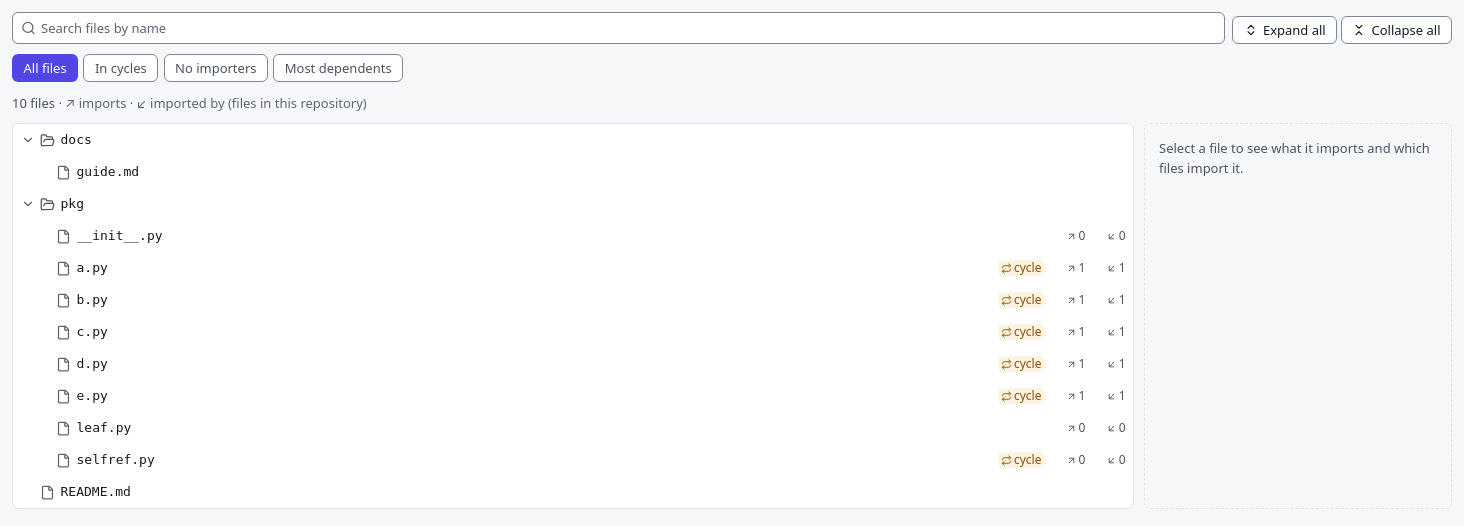
Test: filters and actions (X2) › says so when nothing matches, with a way back
Type "zzz" into the search field labelled "Search files by name" at (619,28), box [12,12,1225,44]
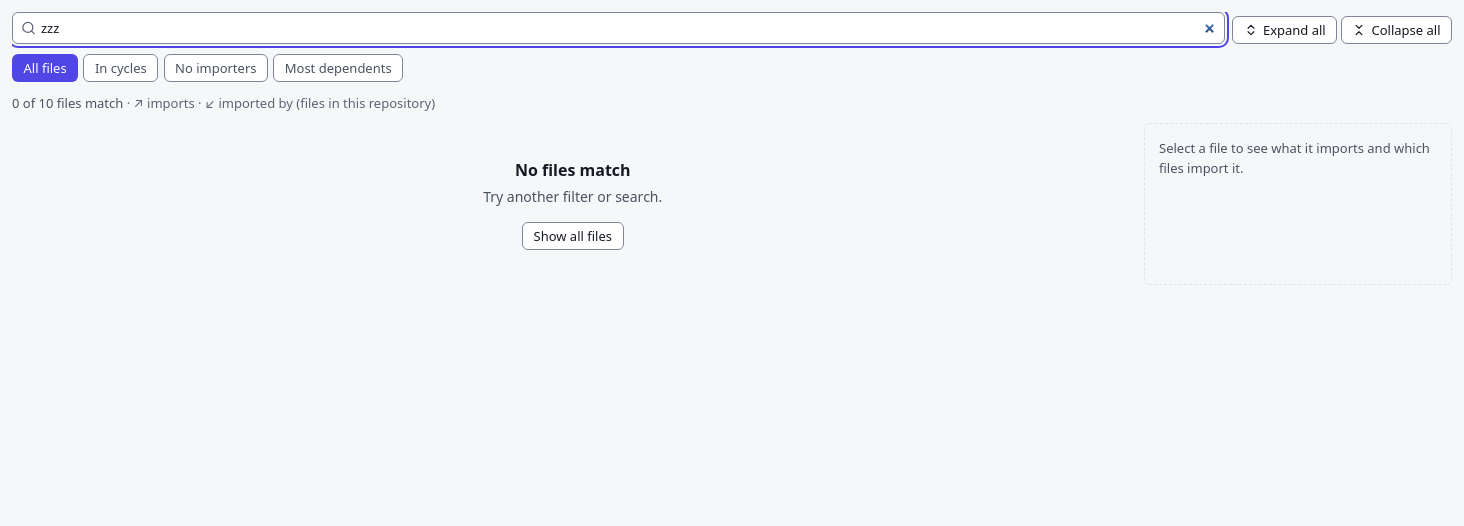
Click the button "Show all files" at (573,236), box [522,222,624,250]
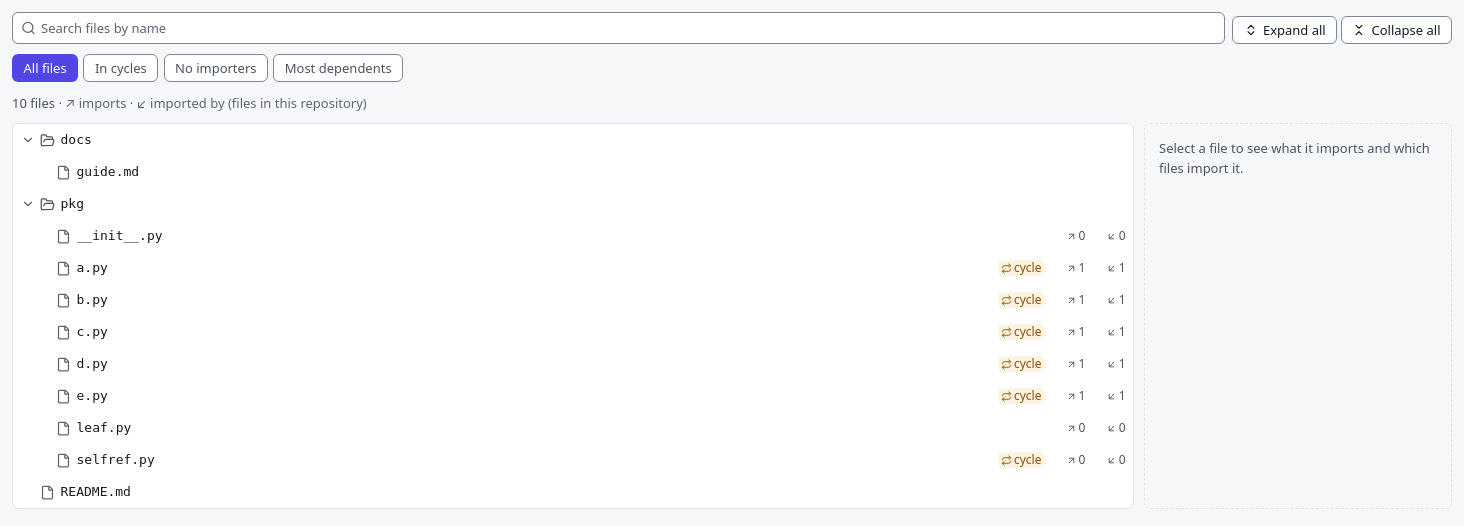
Result: the element named "Repository files" is shown at [12,123,1134,509]
